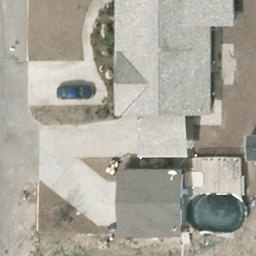car: (56, 84, 98, 102)
